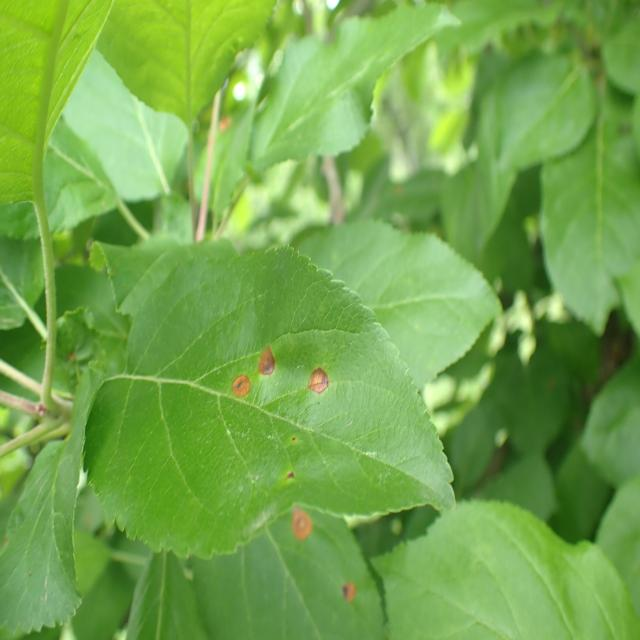frog-eye-leaf-spot: (81, 240, 457, 559)
